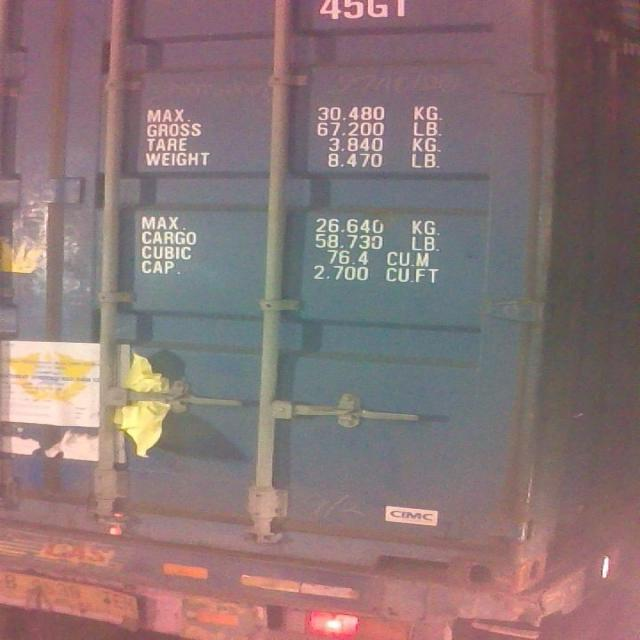seal: (105, 512, 132, 538)
